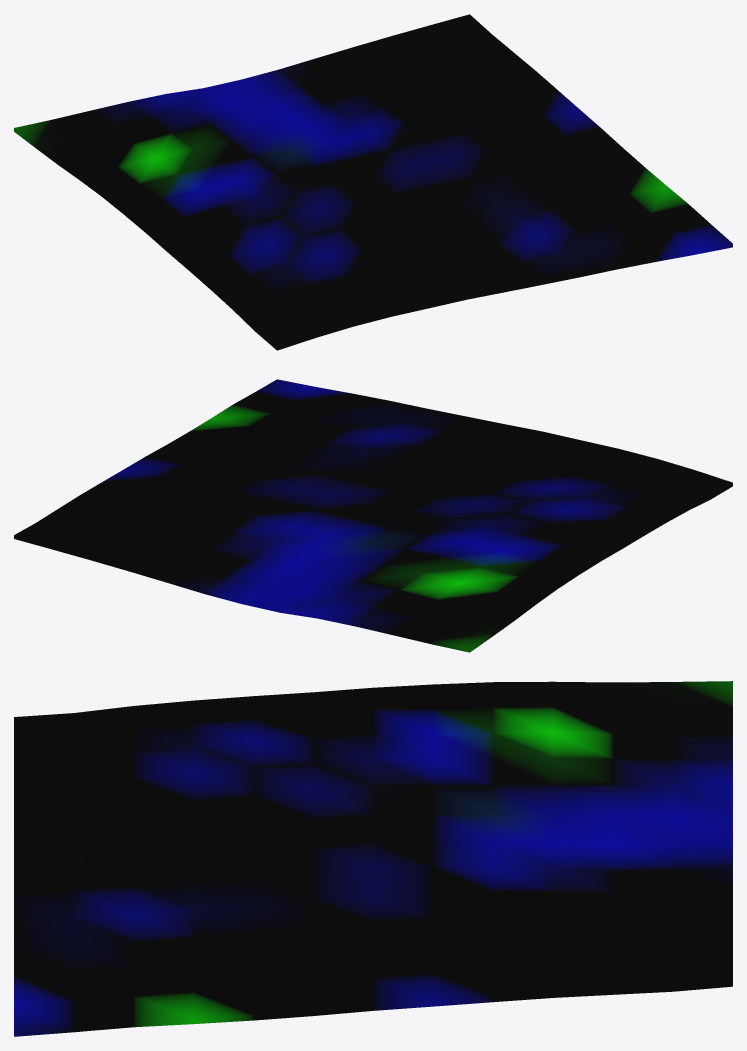
The model's file is coast_17_2.glb.
3 renders of one model, top to bottom at view 1: azimuth 30°, elevation 25°; view 2: azimuth 150°, elevation 25°; view 3: azimuth 270°, elevation 25°, orthographic. The views are drawn at different scales.
Parts seen in each view (by area): view 1: terrain; view 2: terrain; view 3: terrain.
Boxes of the visible parts, <box> form: terrain: <box>14,14,732,350</box>; terrain: <box>14,379,732,652</box>; terrain: <box>14,681,732,1036</box>.
Bounding box in the file's own units: 192 × 16.28 × 192.
